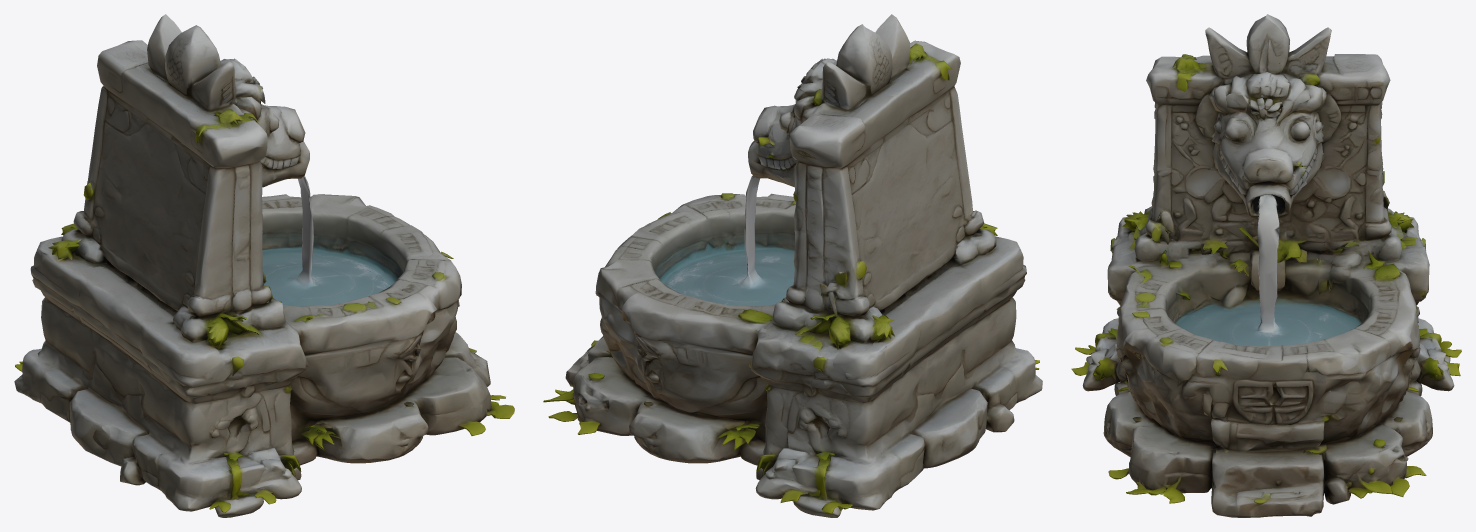
File: dhunge_dhara.glb
3 views of the same model, side by side, from view 1: azimuth 30°, elevation 25°; view 2: azimuth 150°, elevation 25°; view 3: azimuth 270°, elevation 25° (orthographic). The views are drawn at different scales.
Visible parts, largest first — view 1: tripo_node_f5390902-67ee-4e1f-b6cd-9a48141e8424; view 2: tripo_node_f5390902-67ee-4e1f-b6cd-9a48141e8424; view 3: tripo_node_f5390902-67ee-4e1f-b6cd-9a48141e8424.
Part boxes in pixels (<box>): tripo_node_f5390902-67ee-4e1f-b6cd-9a48141e8424: <box>14,14,514,517</box>; tripo_node_f5390902-67ee-4e1f-b6cd-9a48141e8424: <box>543,14,1042,517</box>; tripo_node_f5390902-67ee-4e1f-b6cd-9a48141e8424: <box>1071,14,1461,517</box>.
Bounding box in the file's own units: 0.8017 × 0.8 × 0.7393.
1 material, 1 textured.
